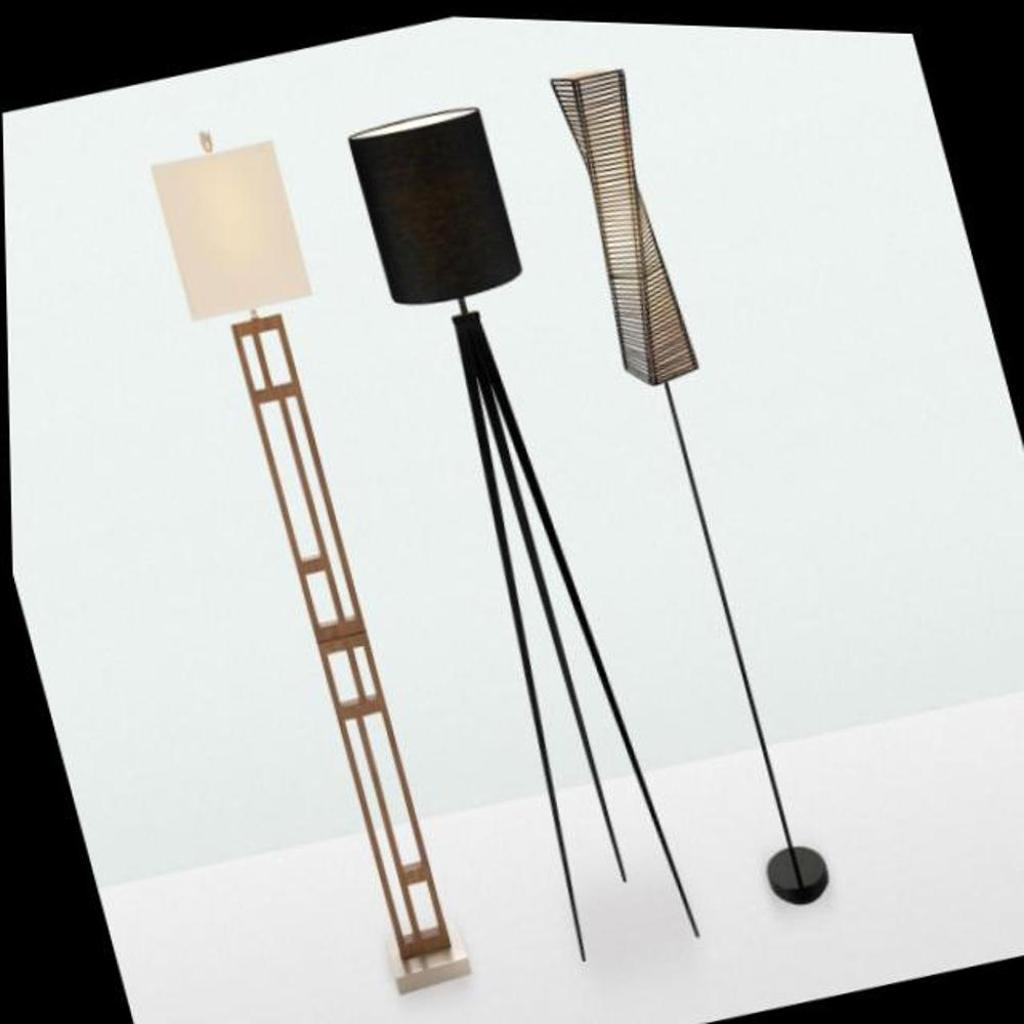shelf: (313, 56, 719, 988), (117, 99, 499, 1016), (515, 21, 861, 929)
